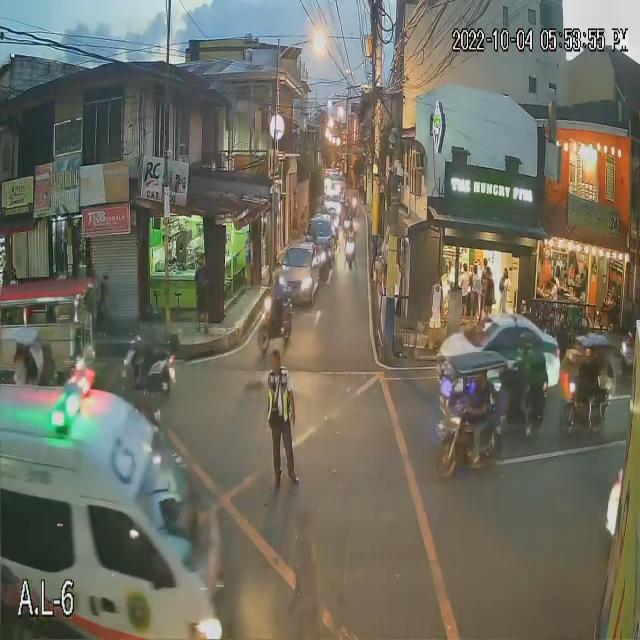helmet: (515, 331, 541, 356)
motorcycle: (120, 338, 181, 394), (501, 372, 549, 431), (254, 294, 295, 349)
rider: (512, 356, 544, 437), (269, 283, 286, 343)
